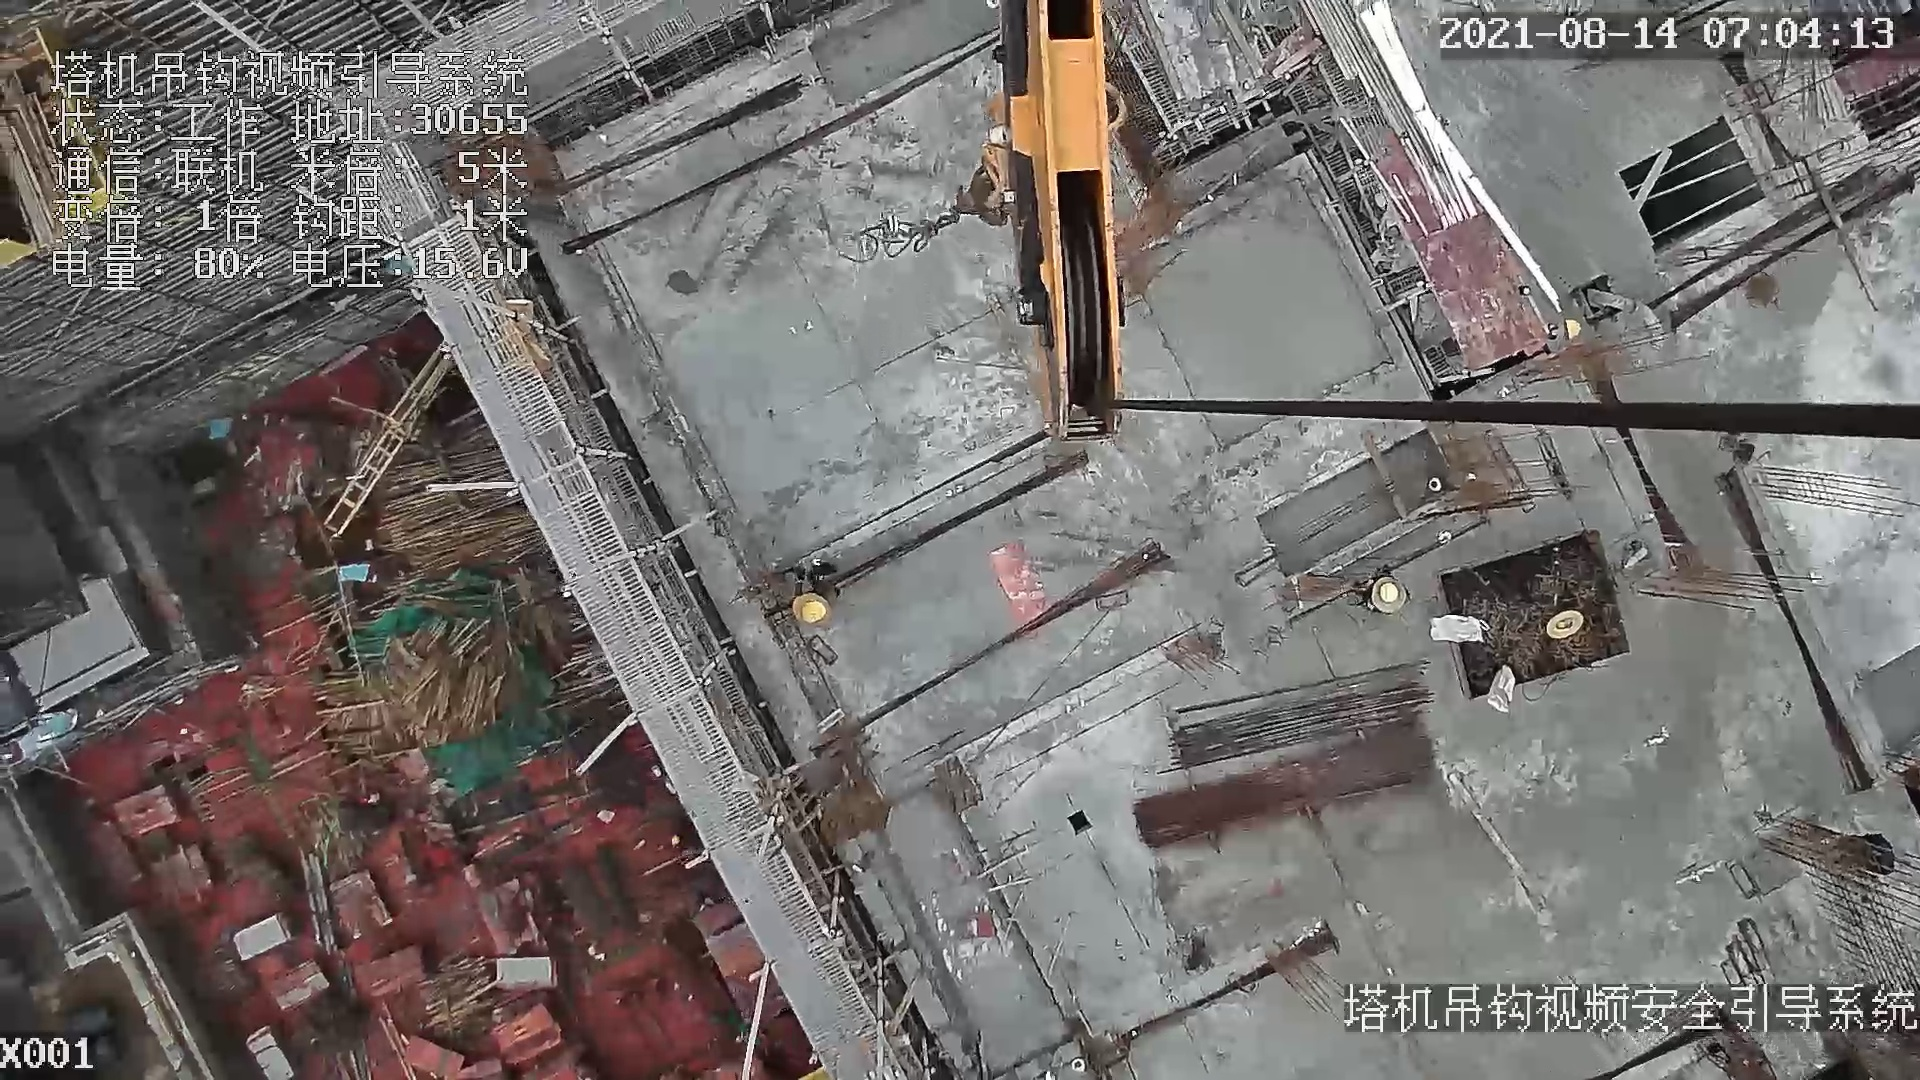hook: (972, 1, 1138, 455)
person: (1357, 565, 1412, 618)
